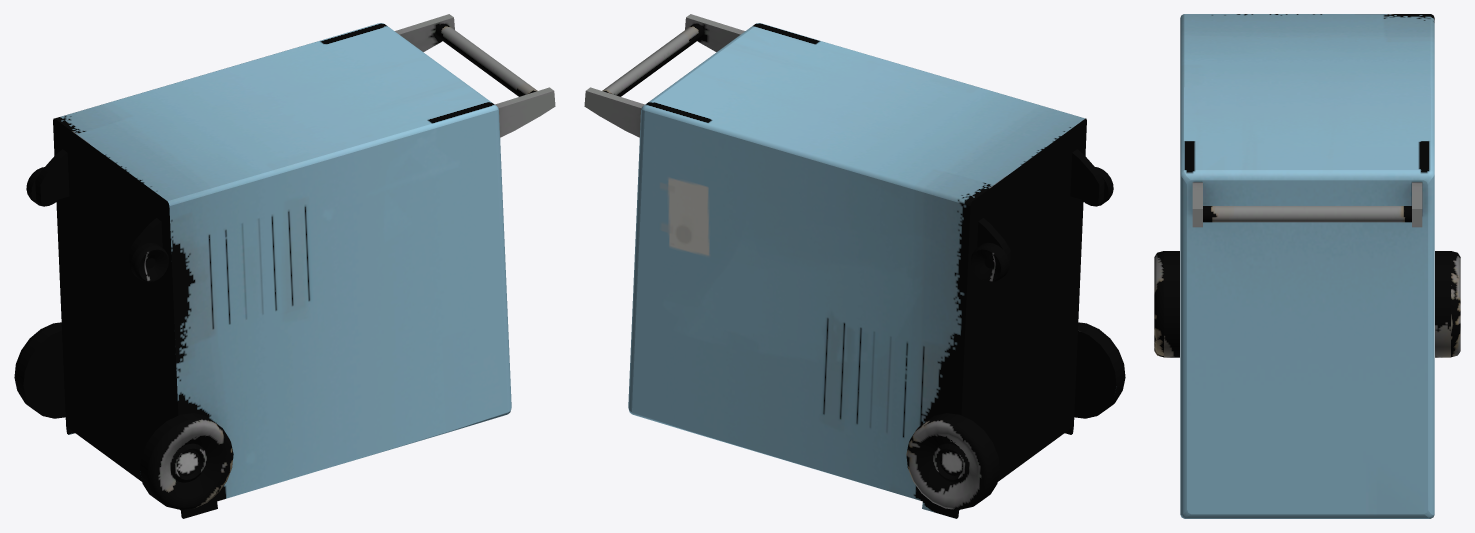
The model's file is props_farm_welding_machine01.glb.
3 renders of one model, left to right at view 1: azimuth 30°, elevation 25°; view 2: azimuth 150°, elevation 25°; view 3: azimuth 270°, elevation 25°, orthographic. The views are drawn at different scales.
Visible parts, largest first — view 1: models/props_farm/welding_machine01; view 2: models/props_farm/welding_machine01; view 3: models/props_farm/welding_machine01.
Boxes of the visible parts, x1=… form: models/props_farm/welding_machine01: x1=14, y1=14, x2=555, y2=518; models/props_farm/welding_machine01: x1=584, y1=14, x2=1125, y2=518; models/props_farm/welding_machine01: x1=1154, y1=14, x2=1460, y2=518.
Bounding box in the file's own units: 70.12 × 53.33 × 40.35.
1 material, 1 textured.
